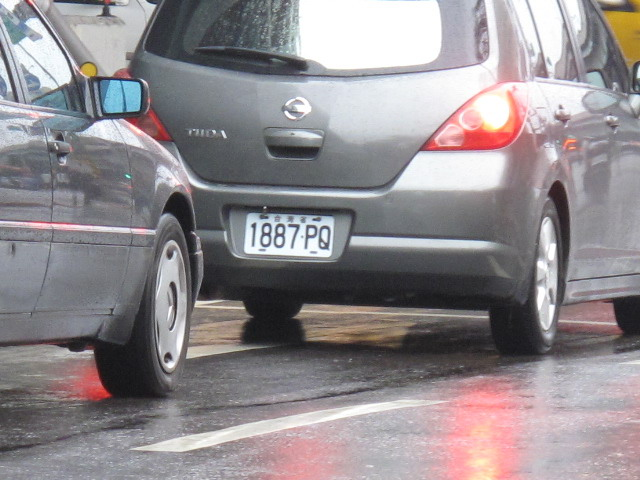plate: (242, 208, 337, 259)
